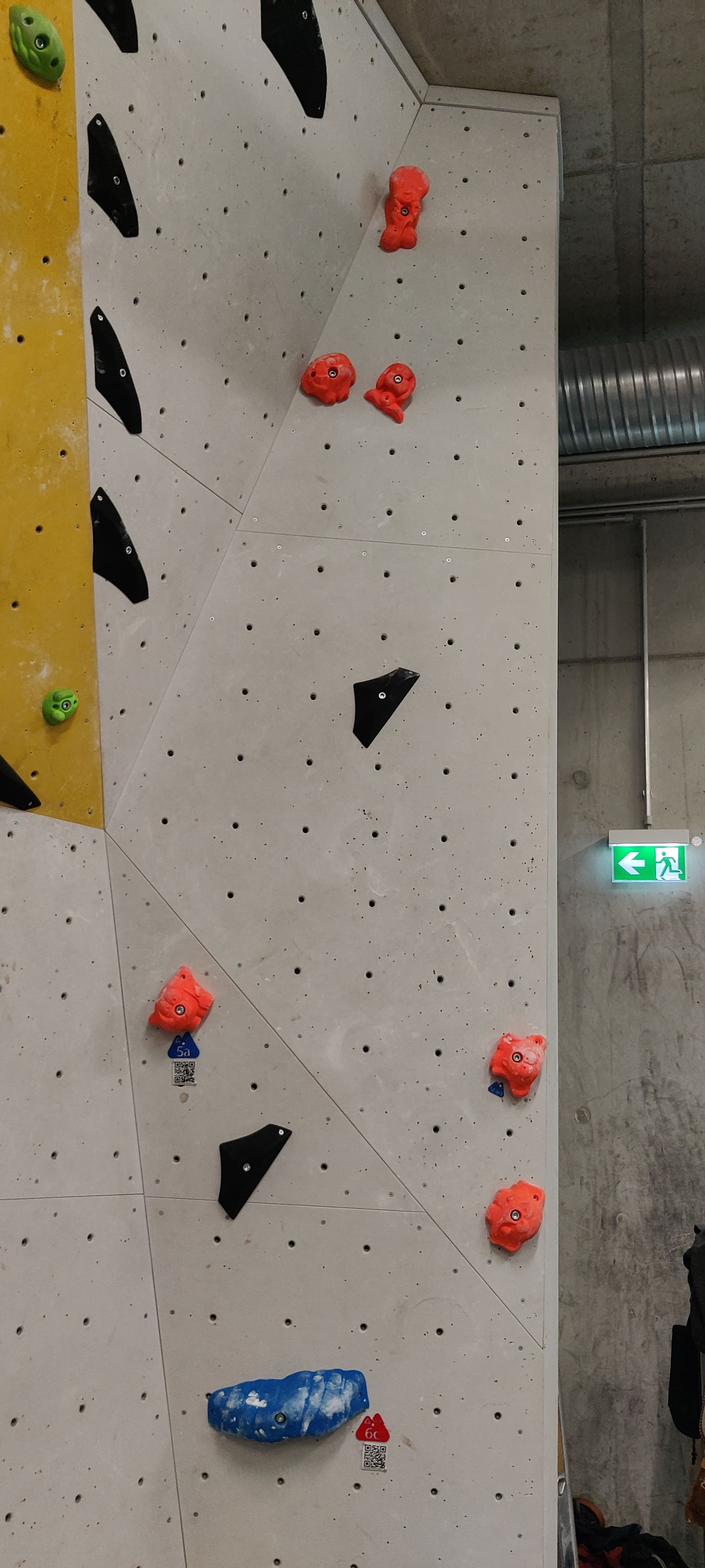hold: (208, 1369, 369, 1443), (261, 0, 326, 119), (219, 1124, 291, 1220), (90, 487, 148, 604), (90, 306, 142, 434), (87, 113, 139, 238), (353, 668, 419, 748), (9, 5, 65, 85), (148, 967, 213, 1034), (485, 1181, 545, 1253), (380, 166, 429, 252), (489, 1033, 546, 1098), (365, 363, 415, 423), (301, 353, 355, 404), (87, 0, 138, 53), (0, 755, 40, 811), (42, 688, 78, 726)
